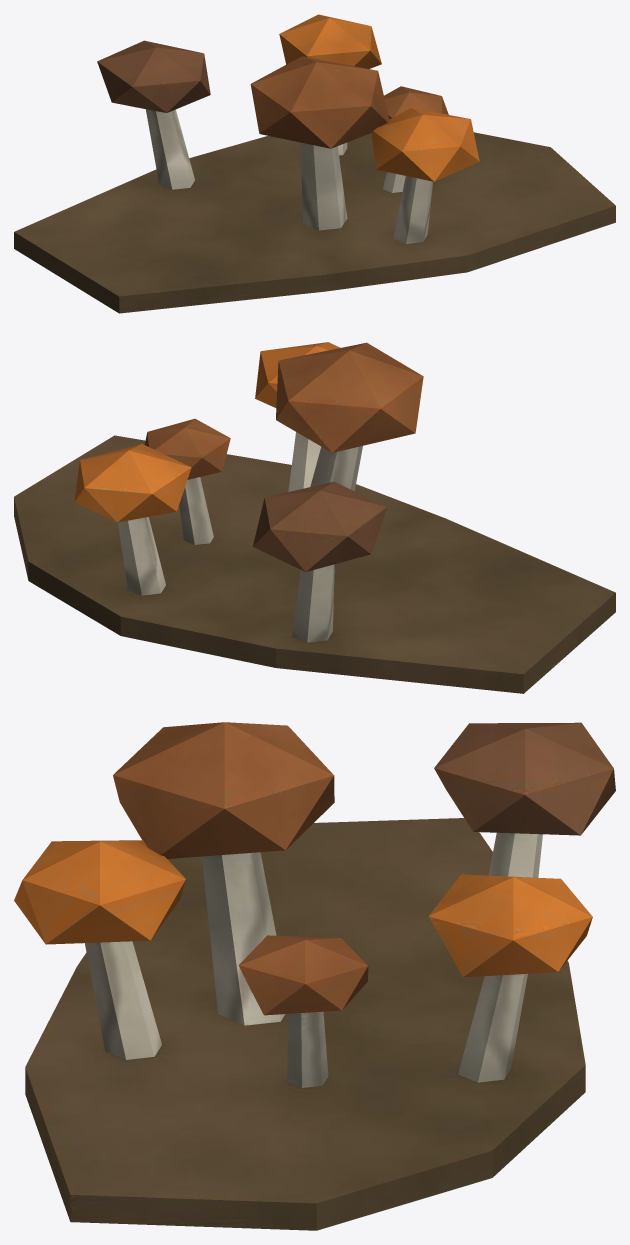
File: mushrooms_idle.glb
The picture shows the model from 3 angles, top to bottom: view 1: azimuth 30°, elevation 25°; view 2: azimuth 150°, elevation 25°; view 3: azimuth 270°, elevation 25°; orthographic projection. The views are drawn at different scales.
Visible parts, largest first — view 1: mushrooms; view 2: mushrooms; view 3: mushrooms.
Part boxes in pixels (box(x1,y1,x2,y2)): mushrooms: box(14, 14, 615, 313); mushrooms: box(14, 342, 615, 693); mushrooms: box(14, 722, 615, 1230).
Size of the model in its own units: 0.3027 by 0.1104 by 0.1997.
1 material, 1 textured.
